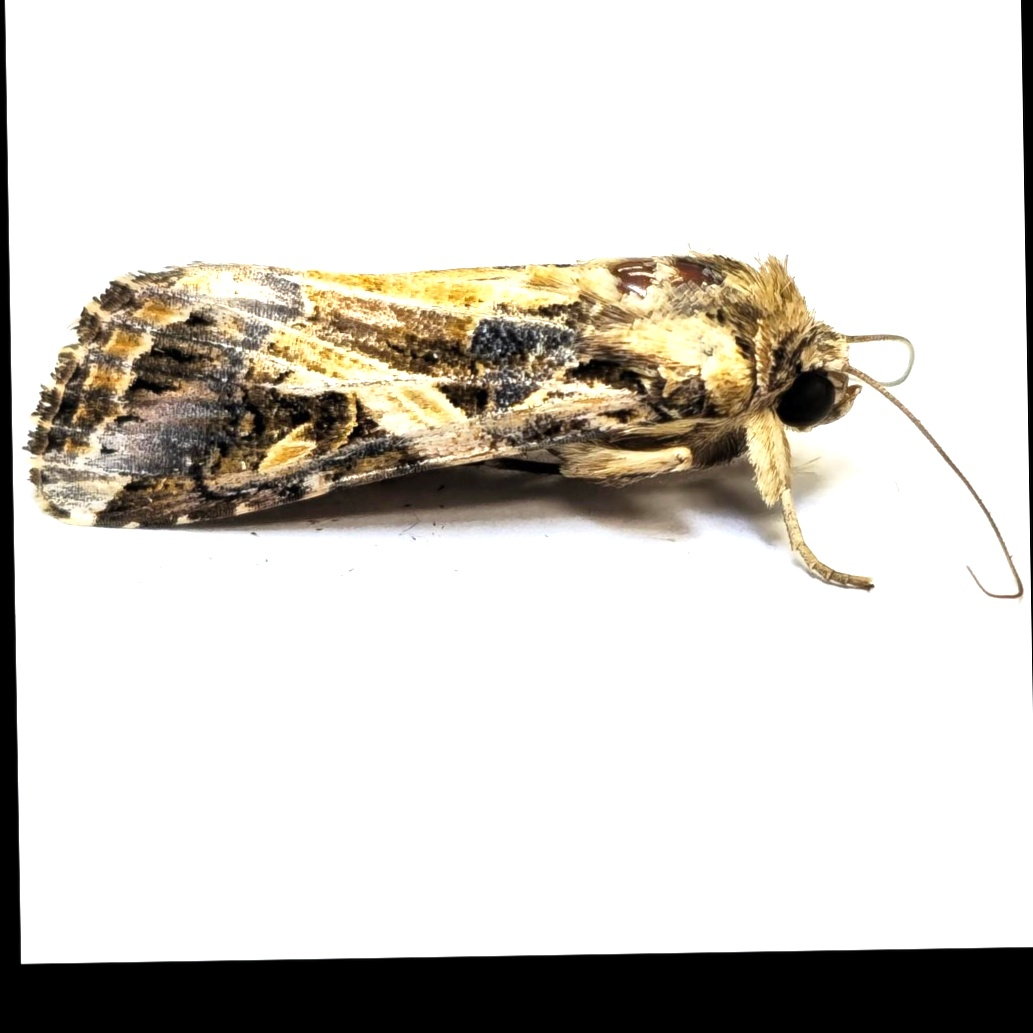Spodoptera litura: (20, 243, 1021, 609)
